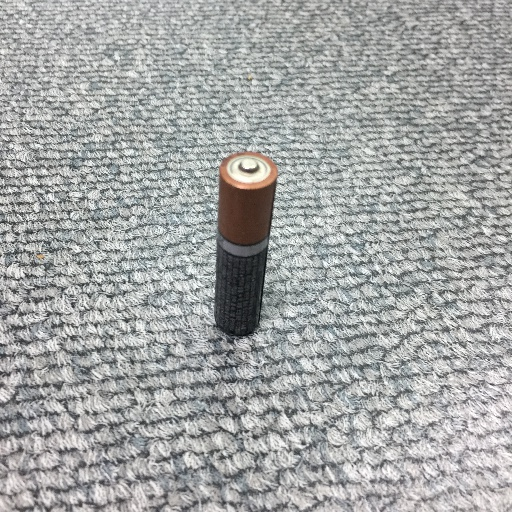Battery_0: (205, 141, 286, 349)
